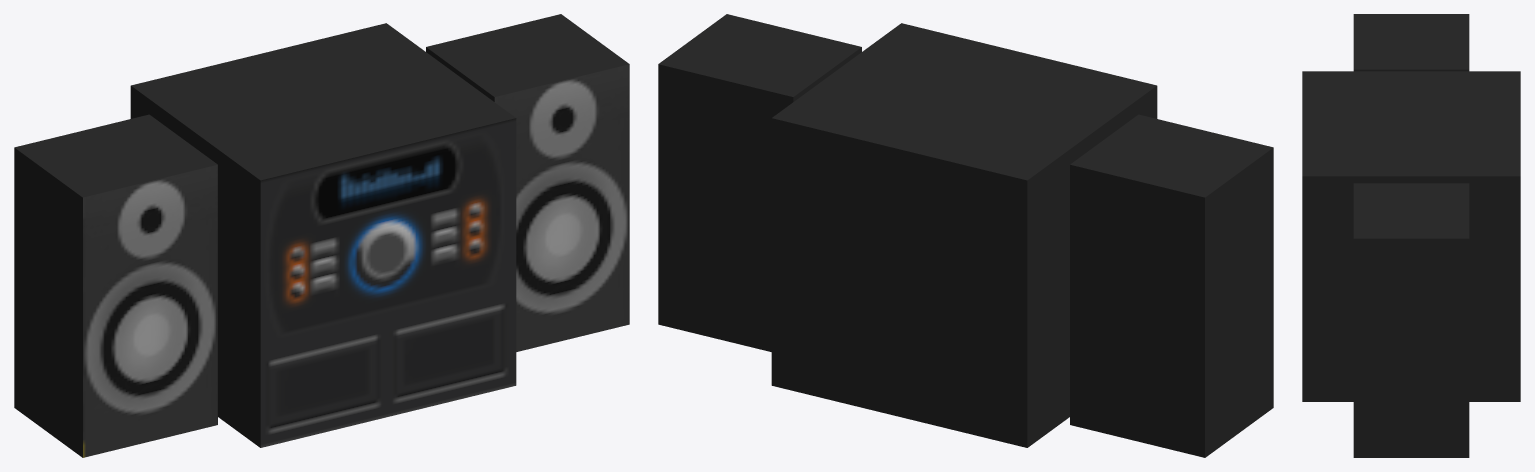
File: Stereo.fbx
3 renders of one model, left to right at view 1: azimuth 30°, elevation 25°; view 2: azimuth 150°, elevation 25°; view 3: azimuth 270°, elevation 25°, orthographic. The views are drawn at different scales.
Parts seen in each view (by area): view 1: polySurface21; view 2: polySurface21; view 3: polySurface21.
Boxes of the visible parts, box(x1,y1,x2,y2) form: polySurface21: box(14, 14, 629, 457); polySurface21: box(658, 14, 1273, 457); polySurface21: box(1302, 14, 1520, 457).
Bounding box in the file's own units: 1.03 × 0.4807 × 0.4224.
